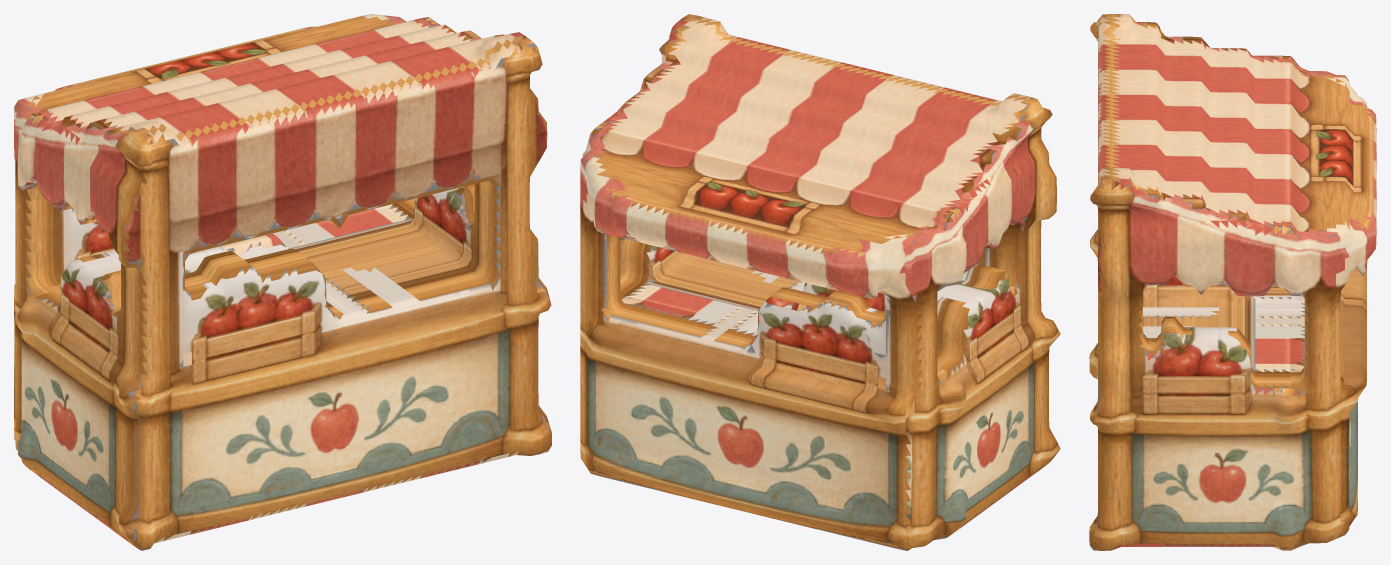
File: apple-stall.glb
3 renders of one model, left to right at view 1: azimuth 30°, elevation 25°; view 2: azimuth 150°, elevation 25°; view 3: azimuth 270°, elevation 25°, orthographic. The views are drawn at different scales.
Size of the model in its own units: 1.08 by 1 by 0.7135.
1 material, 1 textured.
